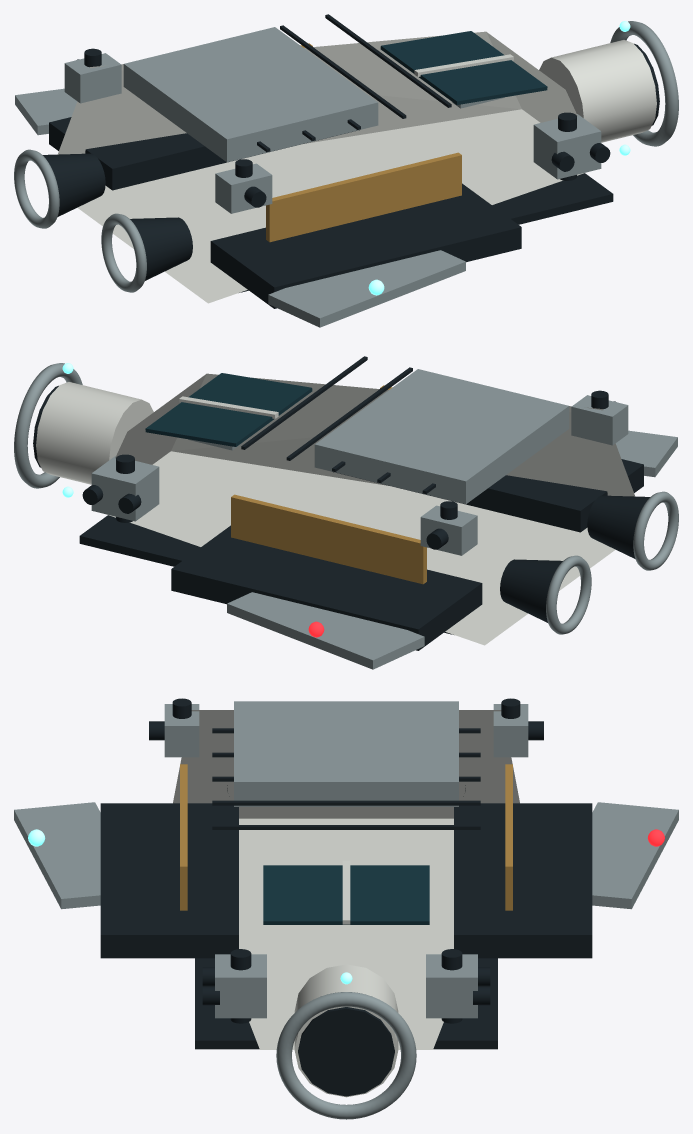
File: aether-kestrel-spacecraft.glb
The picture shows the model from 3 angles, top to bottom: view 1: azimuth 30°, elevation 25°; view 2: azimuth 150°, elevation 25°; view 3: azimuth 270°, elevation 25°; orthographic projection. The views are drawn at different scales.
Parts seen in each view (by area): view 1: Ceramic_lifting_body, Dorsal_equipment, Wing_root (×2), Service_bay, Radiator_wing (×2), Nose_docking_tunnel, Thruster_housing (×3), Flight_deck_windows, Engine_bell (×2), Engine_lip (×2), Ventral_heatshield, Nose_capture_ring (+2 smaller); view 2: Ceramic_lifting_body, Dorsal_equipment, Wing_root (×2), Service_bay, Radiator_wing (×2), Nose_docking_tunnel, Thruster_housing (×3), Flight_deck_windows, Engine_bell (×2), Engine_lip (×2), Ventral_heatshield, Nose_capture_ring (+2 smaller); view 3: Wing_root (×2), Ceramic_lifting_body, Dorsal_equipment, Radiator_wing (×2), Flight_deck_windows, Thruster_housing (×4), Nose_hatch, Nose_capture_ring, Ventral_heatshield, Nose_docking_tunnel, Hull_panel_seam (×2), Service_bay (×2).
Boxes of the visible parts, x1,y1,x2,y2 form: Ceramic_lifting_body: (57,31,585,303); Dorsal_equipment: (123,27,378,162); Wing_root (×2): (49,117,521,308); Service_bay: (266,152,461,242); Radiator_wing (×2): (15,88,465,327); Nose_docking_tunnel: (539,40,656,142); Thruster_housing (×3): (64,53,601,213); Flight_deck_windows: (380,31,547,104); Engine_bell (×2): (43,153,192,280); Engine_lip (×2): (14,149,146,292); Ventral_heatshield: (239,173,613,292); Nose_capture_ring: (610,21,678,146); Ceramic_lifting_body: (107,373,635,645); Dorsal_equipment: (314,369,569,504); Wing_root (×2): (171,459,643,650); Service_bay: (231,494,426,584); Radiator_wing (×2): (227,430,677,669); Nose_docking_tunnel: (36,382,153,484); Thruster_housing (×3): (91,395,628,555); Flight_deck_windows: (145,373,312,446); Engine_bell (×2): (500,495,649,622); Engine_lip (×2): (546,491,678,634); Ventral_heatshield: (79,515,453,634); Nose_capture_ring: (14,363,82,488); Wing_root (×2): (100,803,592,958); Ceramic_lifting_body: (173,710,519,1049); Dorsal_equipment: (234,701,458,806); Radiator_wing (×2): (14,802,678,909); Flight_deck_windows: (263,865,429,924); Thruster_housing (×4): (164,704,528,1018); Nose_hatch: (298,1007,394,1096); Nose_capture_ring: (276,992,416,1119); Ventral_heatshield: (195,958,497,1049); Nose_docking_tunnel: (294,964,398,1097); Hull_panel_seam (×2): (212,800,480,829); Service_bay (×2): (180,764,512,910).
Bounding box in the file's own units: 4.18 × 1.13 × 3.84.
